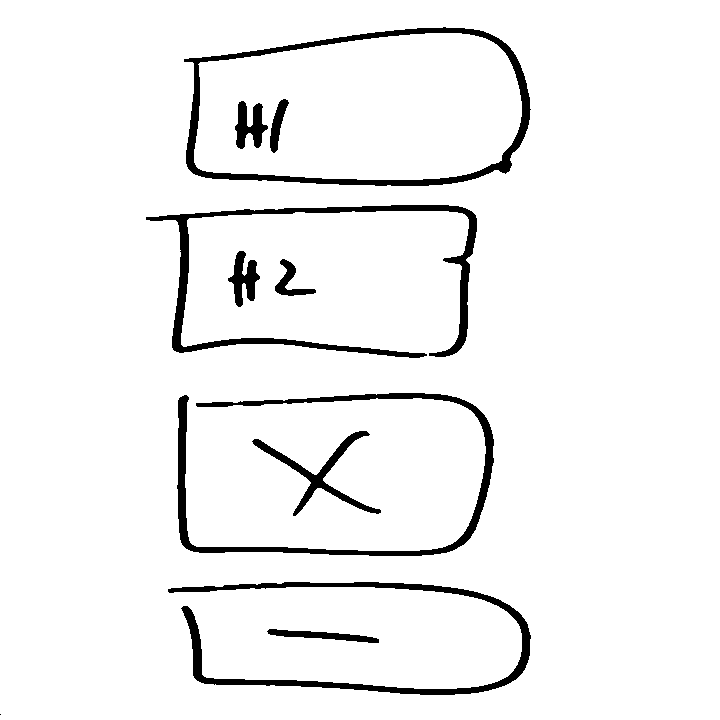button: (165, 577, 539, 698)
heading1: (163, 19, 545, 196)
heading2: (141, 200, 485, 363)
picture: (168, 389, 497, 561)
